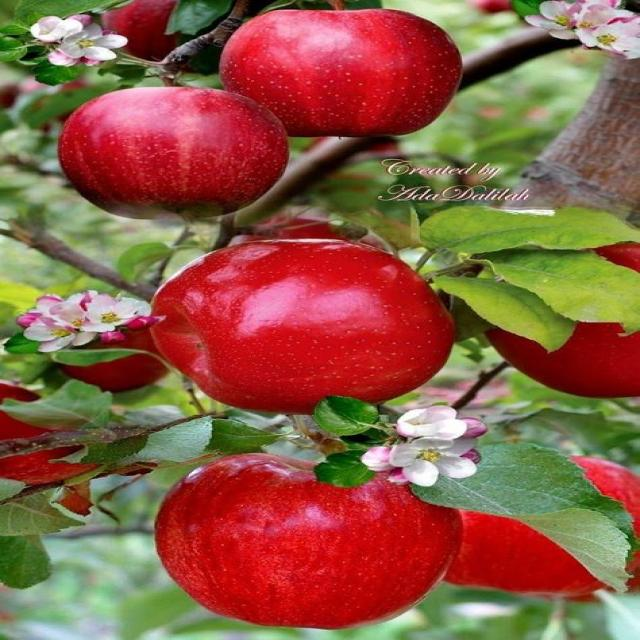Tao: (151, 451, 455, 626), (148, 240, 451, 410), (220, 7, 458, 138), (56, 85, 290, 218), (446, 453, 633, 598), (483, 239, 636, 400), (0, 382, 119, 490), (53, 325, 183, 396)
